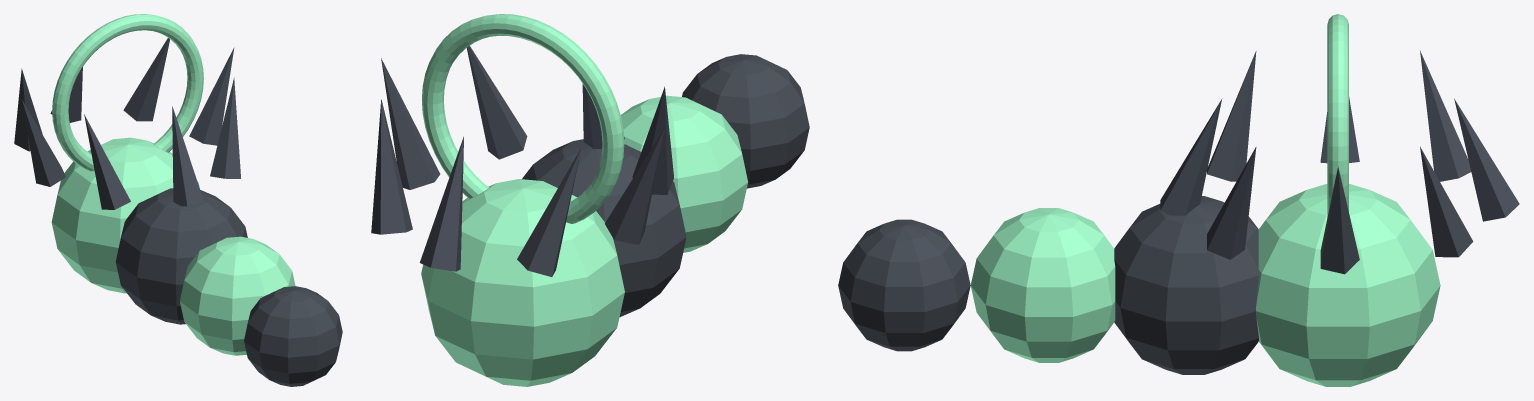
File: SM_Boss_Nerobahn.fbx
3 renders of one model, left to right at view 1: azimuth 30°, elevation 25°; view 2: azimuth 150°, elevation 25°; view 3: azimuth 270°, elevation 25°, orthographic. The views are drawn at different scales.
Visible parts, largest first — view 1: SM_Boss_Nerobahn; view 2: SM_Boss_Nerobahn; view 3: SM_Boss_Nerobahn.
Boxes of the visible parts, box(x1,y1,x2,y2) form: SM_Boss_Nerobahn: box(14, 14, 342, 386); SM_Boss_Nerobahn: box(371, 14, 809, 386); SM_Boss_Nerobahn: box(838, 14, 1519, 386).
Size of the model in its own units: 3.19 by 3.86 by 6.74.
